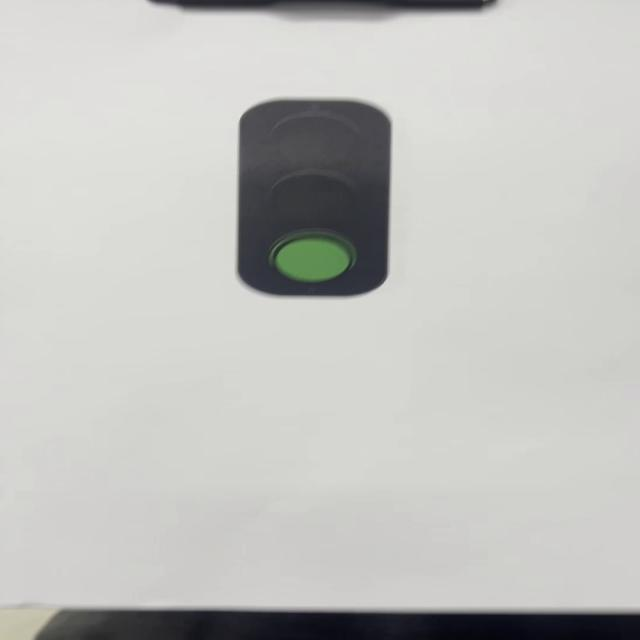green: (240, 97, 390, 298)
